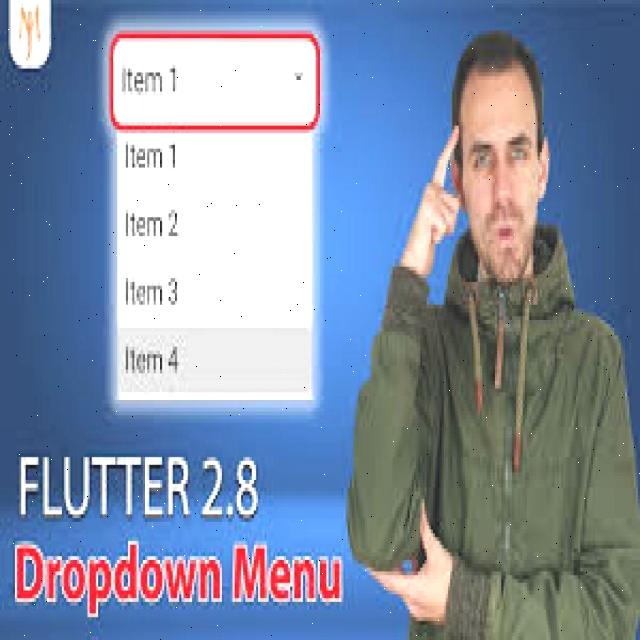dropdownMenu: (113, 35, 318, 128)
icon: (0, 0, 57, 83)
label: (6, 534, 346, 620), (12, 450, 266, 526)
menuItem: (120, 336, 188, 387), (119, 200, 185, 245), (118, 270, 186, 312), (119, 136, 183, 173)
